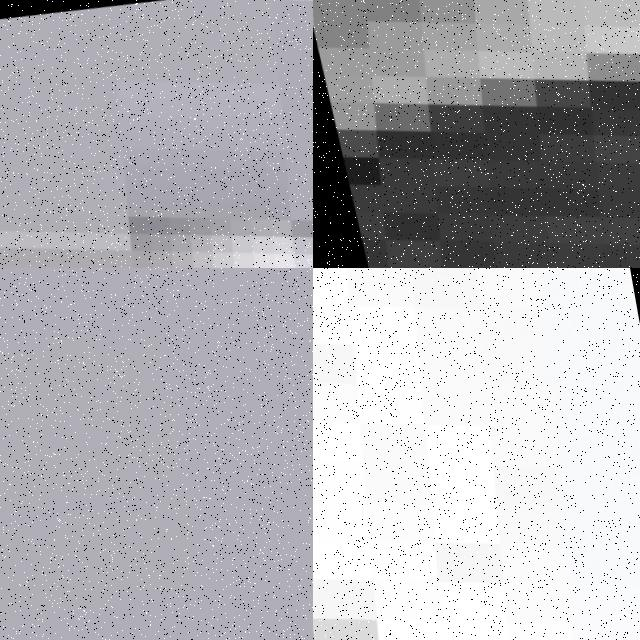drone: (313, 268, 640, 640), (313, 0, 640, 268), (0, 0, 313, 268)
